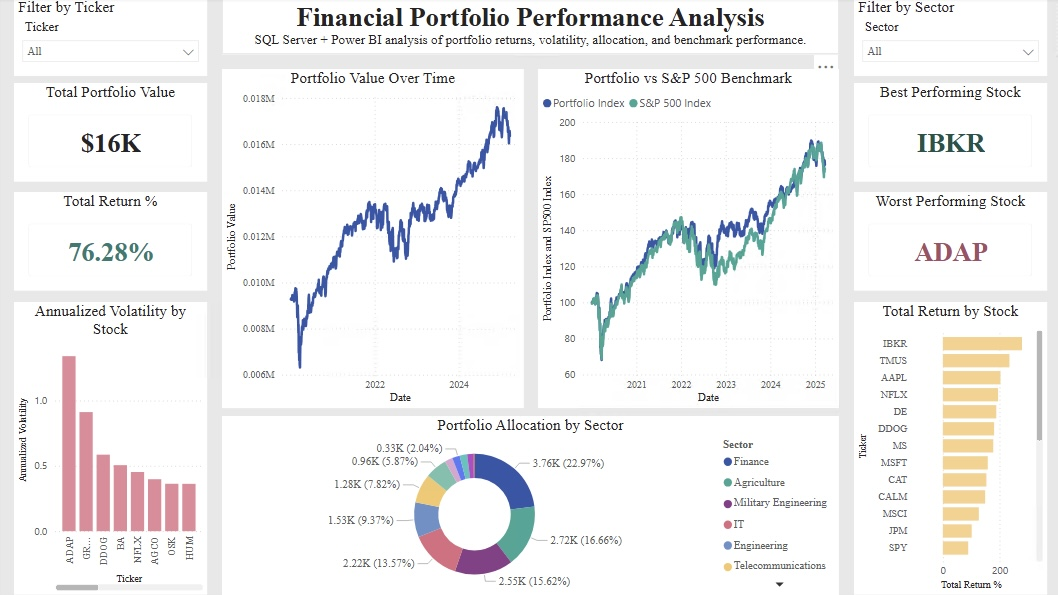

What the dashboard file says about the page in this screenshot:
{"tool":"powerbi","page":{"name":"Page 1","canvas":[1280,720],"ordinal":0},"visuals":[{"type":"shape","box":[0,0,1279.6,720],"z":0},{"type":"textbox","box":[267.7,0,744.1,67.5],"z":1000},{"type":"cardVisual","title":"Total Portfolio Value","fields":{"Data":["Sum(finance vw_dashboard_summary.ending_portfolio_value)"]},"box":[16.9,102.5,232.8,119.4],"z":2000},{"type":"cardVisual","title":"Best Performing Stock","fields":{"Data":["Min(finance vw_dashboard_summary.best_stock)"]},"box":[1029.9,102.5,232.8,119.4],"z":3000},{"type":"cardVisual","title":"Worst Performing Stock","fields":{"Data":["Min(finance vw_dashboard_summary.worst_stock)"]},"box":[1029.9,234,232.8,119.4],"z":4000},{"type":"lineChart","title":"Portfolio Value Over Time","fields":{"Y":["Sum(finance vw_portfolio_value_over_time.portfolio_value)"],"Category":["finance vw_portfolio_value_over_time.Date"]},"box":[267.7,85.6,364.2,408.8],"z":5000},{"type":"donutChart","title":"Portfolio Allocation by Sector","fields":{"Category":["finance vw_sector_allocation.Sector"],"Y":["Sum(finance vw_sector_allocation.sector_value)"]},"box":[267.7,504.1,744.1,215.9],"z":6000},{"type":"clusteredBarChart","title":"Total Return by Stock","fields":{"Y":["Avg(finance vw_stock_total_returns.total_return_percent)"],"Category":["finance vw_stock_total_returns.Ticker"]},"box":[1029.9,366.6,232.8,353.4],"z":7000},{"type":"clusteredColumnChart","title":"Annualized Volatility by Stock","fields":{"Category":["finance vw_stock_volatility.Ticker"],"Y":["Sum(finance vw_stock_volatility.annualized_volatility)"]},"box":[16.9,366.6,232.8,353.4],"z":8000},{"type":"lineChart","title":"Portfolio vs S&P 500 Benchmark","fields":{"Y":["Avg(finance vw_portfolio_vs_sp500.portfolio_index)","Avg(finance vw_portfolio_vs_sp500.sp500_index)"],"Category":["finance vw_portfolio_vs_sp500.Date"]},"box":[648.8,85.6,363,408.8],"z":9000},{"type":"cardVisual","title":"Total Return %","fields":{"Data":["Sum(finance vw_dashboard_summary (2).total_return_percent)"]},"box":[16.9,234,232.8,119.4],"z":10000},{"type":"slicer","title":"Filter by Ticker","fields":{"Values":["finance vw_stock_total_returns.Ticker"]},"box":[16.9,0,232.8,94.1],"z":11000},{"type":"slicer","title":"Filter by Sector","fields":{"Values":["finance vw_sector_allocation.Sector"]},"box":[1029.9,0,232.8,94.1],"z":12000}]}

Visuals, with their boxes in screenshot pixels (x1, y1, x2, y2), scaled from the page's 1280x720 canvas onto the 1058x595 screenshot:
shape: locate(0, 0, 1057, 594)
textbox: locate(221, 0, 836, 56)
"Total Portfolio Value" cardVisual: locate(14, 85, 206, 183)
"Best Performing Stock" cardVisual: locate(851, 85, 1044, 183)
"Worst Performing Stock" cardVisual: locate(851, 193, 1044, 292)
"Portfolio Value Over Time" lineChart: locate(221, 71, 522, 409)
"Portfolio Allocation by Sector" donutChart: locate(221, 417, 836, 594)
"Total Return by Stock" clusteredBarChart: locate(851, 303, 1044, 594)
"Annualized Volatility by Stock" clusteredColumnChart: locate(14, 303, 206, 594)
"Portfolio vs S&P 500 Benchmark" lineChart: locate(536, 71, 836, 409)
"Total Return %" cardVisual: locate(14, 193, 206, 292)
"Filter by Ticker" slicer: locate(14, 0, 206, 78)
"Filter by Sector" slicer: locate(851, 0, 1044, 78)
